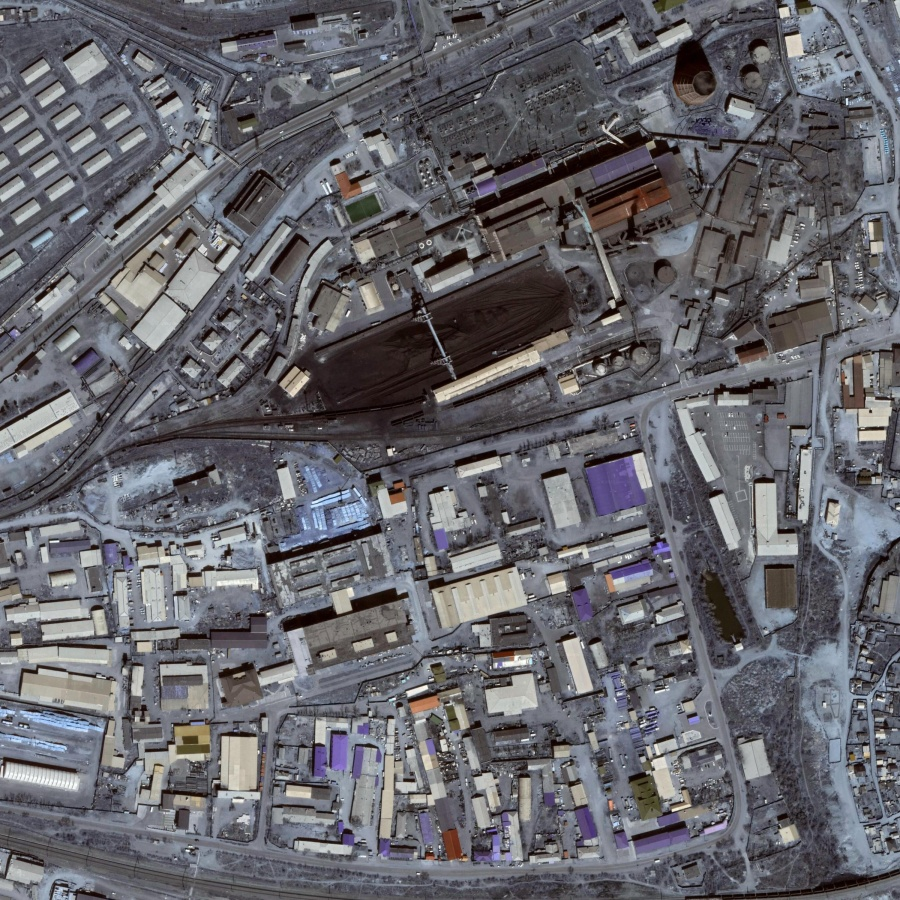PowerPlant: (299, 39, 780, 421)
